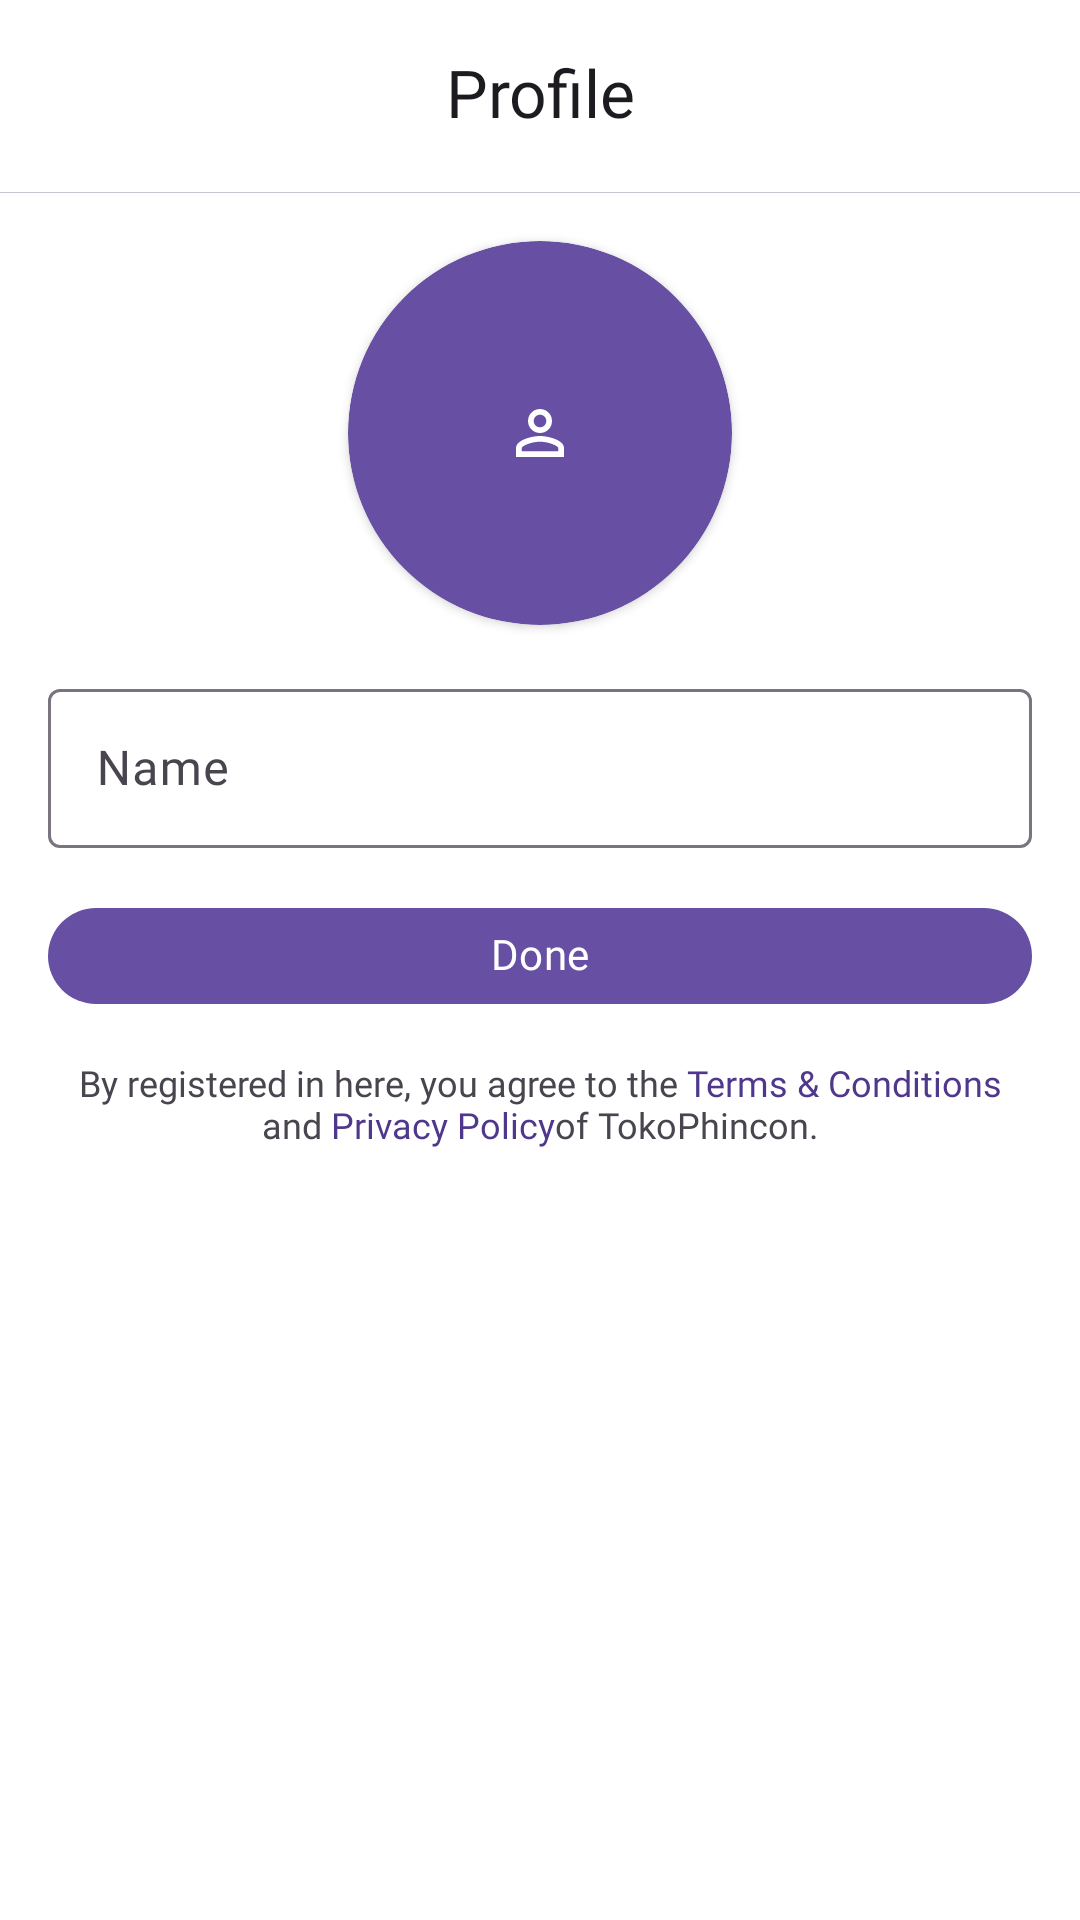

Named icons in this screenshot (1080 x 1920) and their centers, [x,y]:
perm identity: [540,433]
